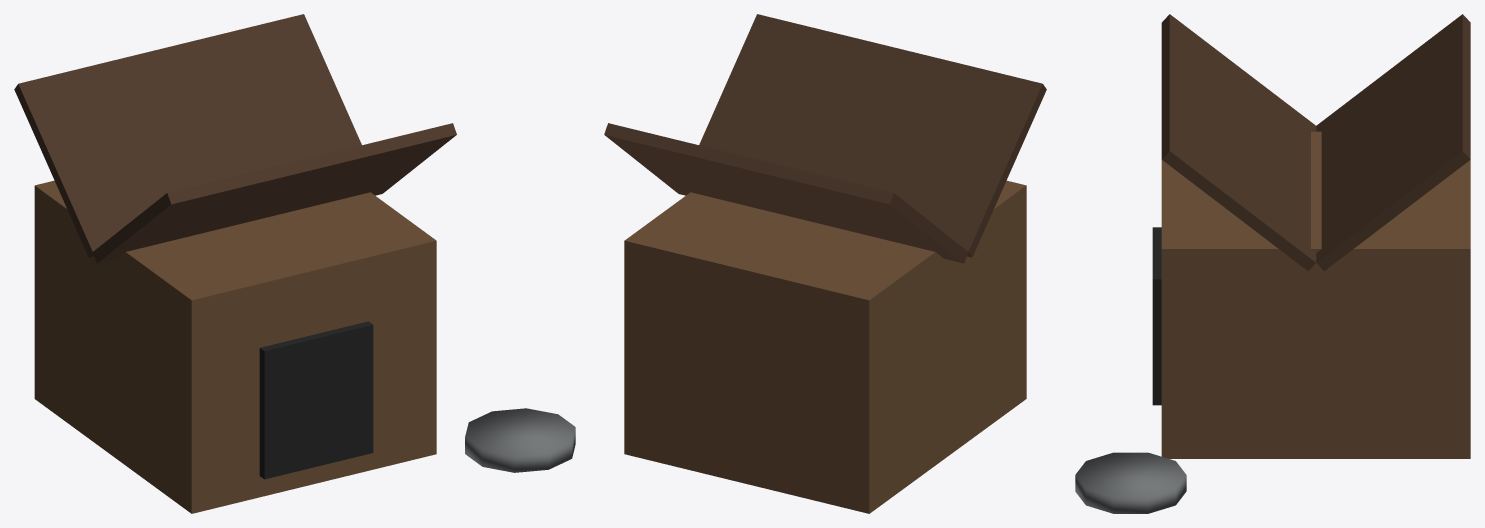
The model's file is dog_booth.glb.
The picture shows the model from 3 angles, left to right: view 1: azimuth 30°, elevation 25°; view 2: azimuth 150°, elevation 25°; view 3: azimuth 270°, elevation 25°; orthographic projection.
Visible parts, largest first — view 1: DogBooth; view 2: DogBooth; view 3: DogBooth.
Part boxes in pixels (x1,y1,x2,y2): DogBooth: [14, 14, 575, 513]; DogBooth: [604, 14, 1046, 513]; DogBooth: [1075, 14, 1470, 513].
Size of the model in its own units: 1.4 by 1.14 by 1.28.
